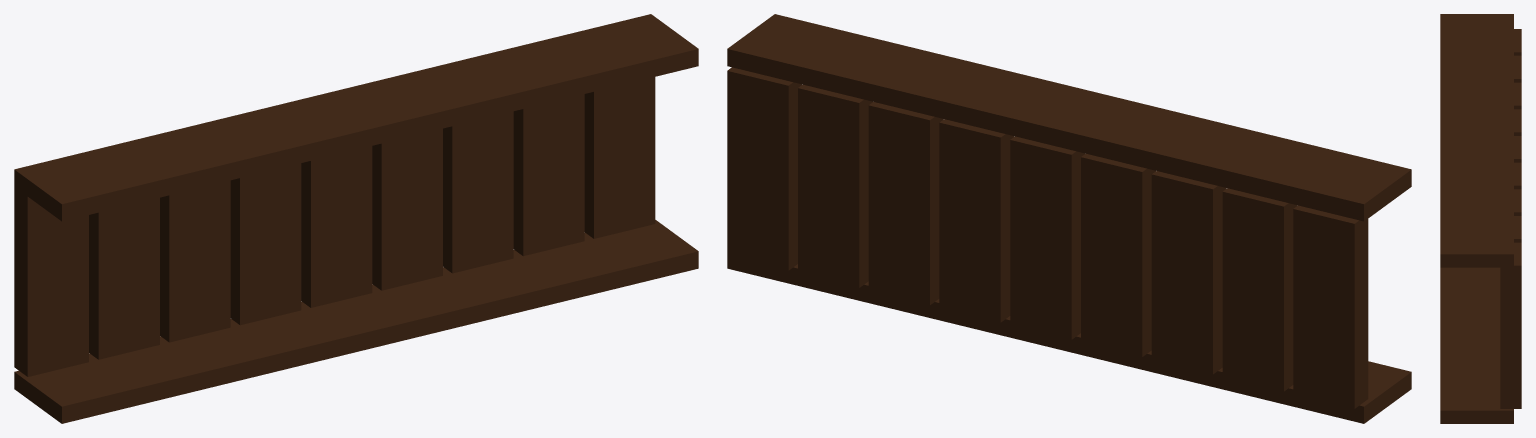
Rendered from SM_CommonFootbridge.obj.
3 views of the same model, side by side, from view 1: azimuth 30°, elevation 25°; view 2: azimuth 150°, elevation 25°; view 3: azimuth 270°, elevation 25° (orthographic). The views are drawn at different scales.
Parts seen in each view (by area): view 1: SM_CommonFootbridge; view 2: SM_CommonFootbridge; view 3: SM_CommonFootbridge.
Part boxes in pixels (x1,y1,x2,y2): SM_CommonFootbridge: [14, 14, 698, 423]; SM_CommonFootbridge: [727, 14, 1411, 423]; SM_CommonFootbridge: [1440, 14, 1521, 423].
Size of the model in its own units: 540 by 178 by 77.
